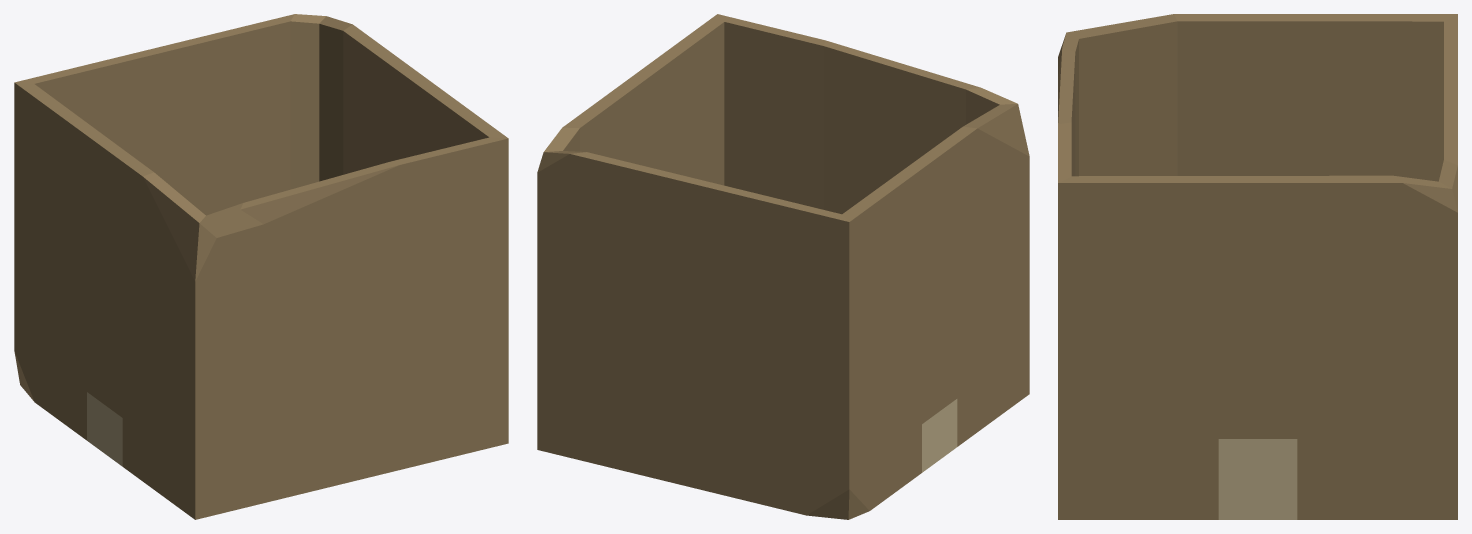
The model's file is SM_Prop_CardboardBox_02.fbx.
The picture shows the model from 3 angles, left to right: view 1: azimuth 30°, elevation 25°; view 2: azimuth 150°, elevation 25°; view 3: azimuth 270°, elevation 25°; orthographic projection. The views are drawn at different scales.
Parts seen in each view (by area): view 1: SM_Prop_CardboardBox_02; view 2: SM_Prop_CardboardBox_02; view 3: SM_Prop_CardboardBox_02.
Boxes of the visible parts, left/top/right/bottom form: SM_Prop_CardboardBox_02: left=14, top=14, right=508, bottom=519; SM_Prop_CardboardBox_02: left=537, top=14, right=1029, bottom=519; SM_Prop_CardboardBox_02: left=1058, top=14, right=1457, bottom=519.
Size of the model in its own units: 50 by 46.51 by 50.
